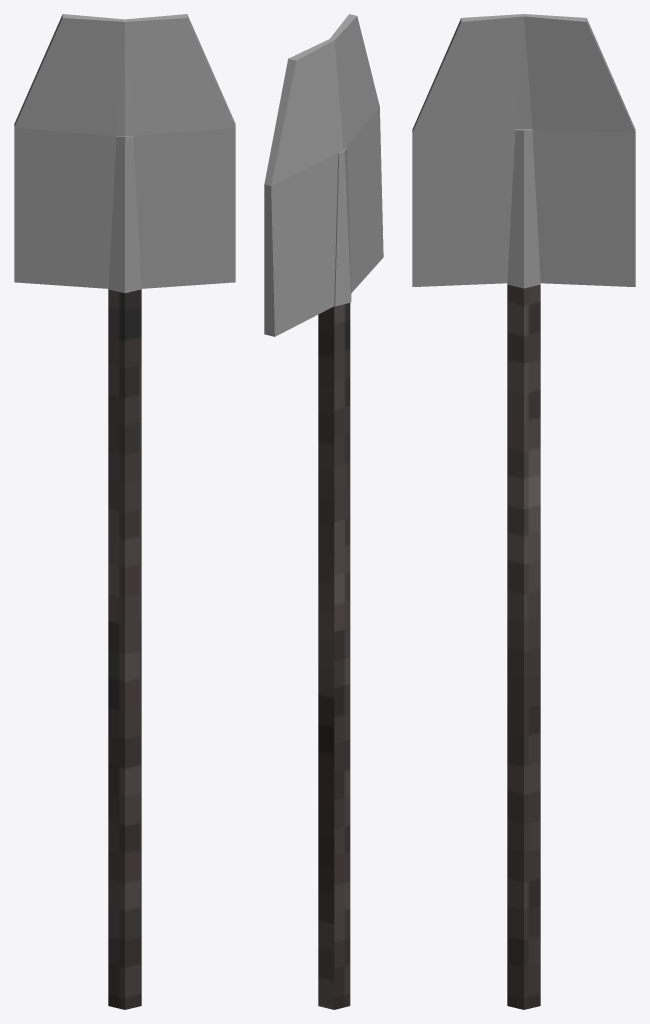
Rendered from лопата.fbx.
3 renders of one model, left to right at view 1: azimuth 90°, elevation 25°; view 2: azimuth 150°, elevation 25°; view 3: azimuth 270°, elevation 25°, orthographic. The views are drawn at different scales.
Visible parts, largest first — view 1: Лопата; view 2: Лопата; view 3: Лопата.
Part boxes in pixels (box(x1,y1,x2,y2)): Лопата: box(14, 14, 235, 1009); Лопата: box(264, 14, 383, 1009); Лопата: box(412, 14, 635, 1009).
Bounding box in the file's own units: 53.43 × 1388 × 284.
2 materials, 1 textured.
